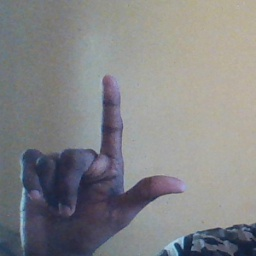L: (17, 74, 188, 252)
